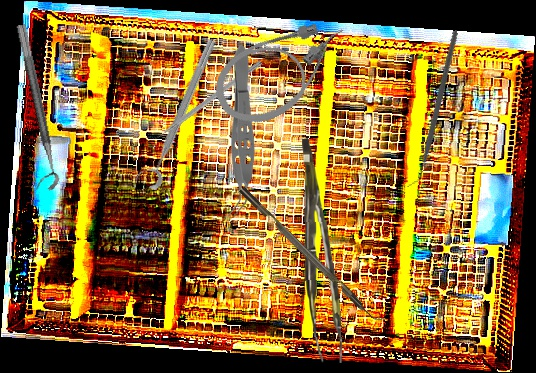Cannula: (203, 7, 365, 137)
Chopper: (238, 179, 389, 329), (366, 30, 498, 187), (144, 53, 263, 146)
Fixation Ring: (133, 33, 221, 192), (2, 23, 62, 194)
Tissue Forceps: (302, 138, 342, 364), (227, 44, 255, 219)
